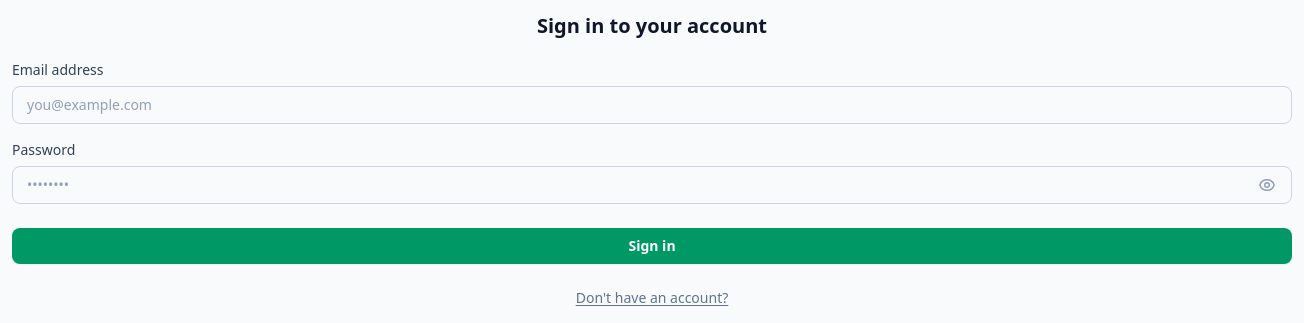
Test: LoginPage › toggles password visibility when the view password button is clicked
This screenshot has width=1304, height=323.
Click the button named "Show". click: (1267, 185)
box: [1254,172,1280,198]
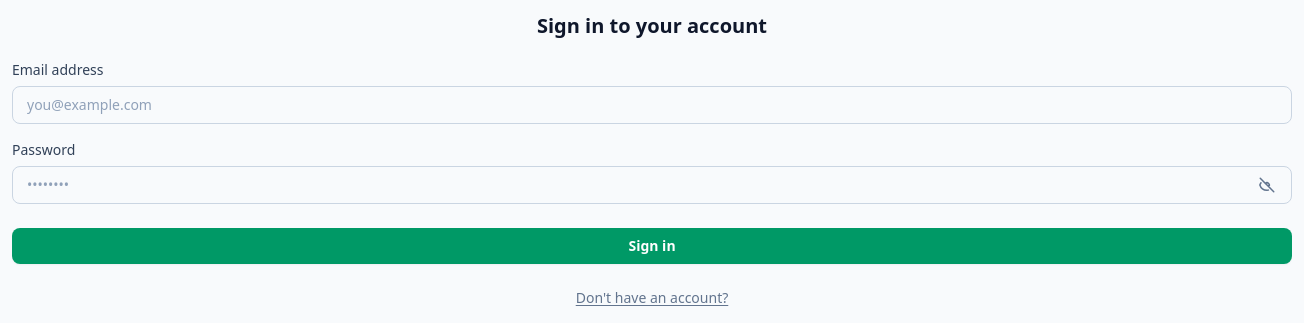
Now the button named "Hide" is shown
Click the button named "Hide". click: (1267, 185)
box: [1254,172,1280,198]
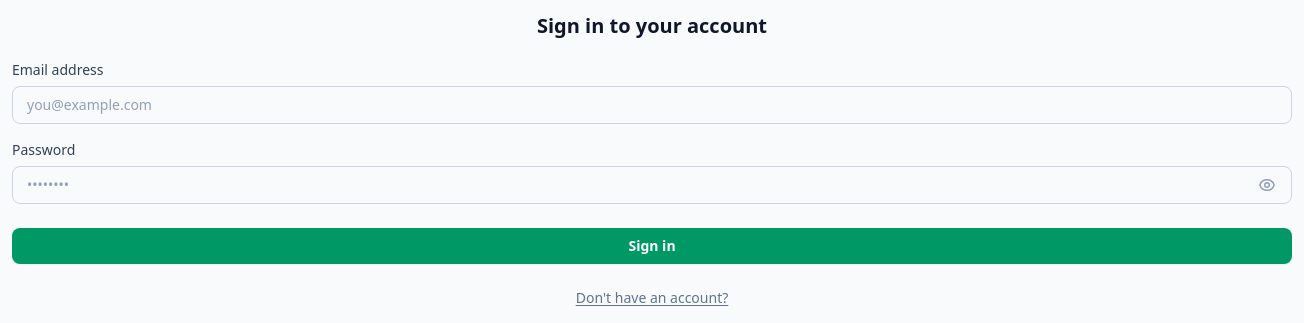
Now the button named "Show" is shown, box [1254,172,1280,198]
